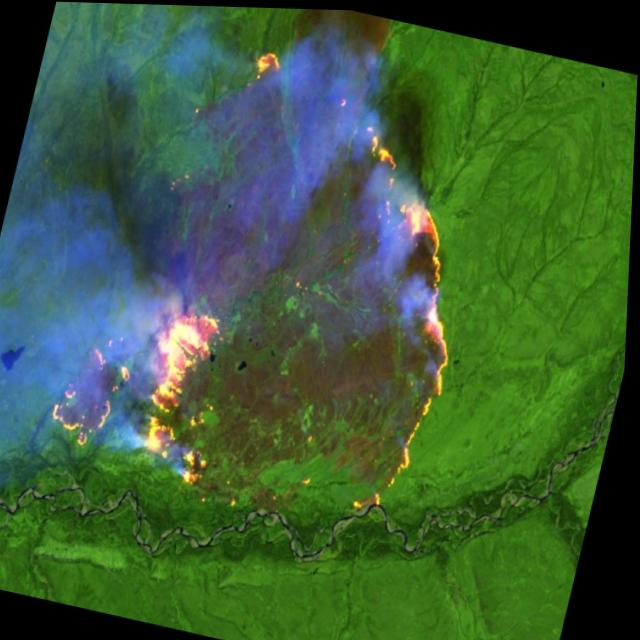fire: (34, 13, 522, 559)
